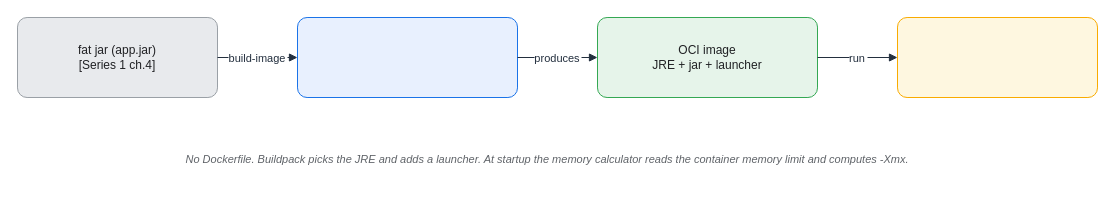
The diagram is 1115 pixels wide and 197 high, and some of its shapes have lost their labels. Here are the shapes that lost their labels. From the top down, the centre of each, then its label:
pixel 407 57: Paketo buildpack (bootBuildImage)
pixel 997 57: container run (memory calculator sets -Xmx)
